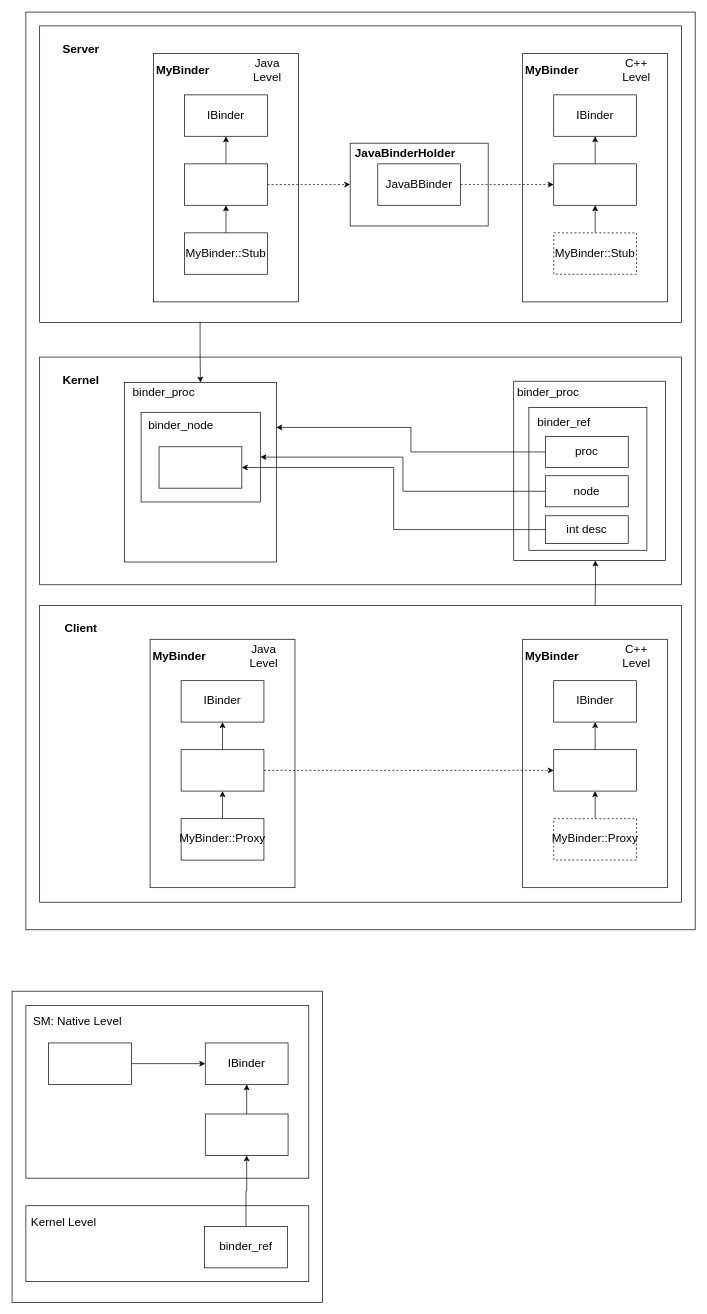
Image size: 707x1314. Some labels were removed from this diagram. Here are the shapes that lost their labels. From the top down, the centre of each, then its label:
At point 225,184: "Binder".
At point 595,184: "BBinder".
At point 200,467: "void* cookie".
At point 222,770: "BinderProxy".
At point 595,770: "BPinder".
At point 89,1063: "name".
At point 246,1134: "BpBinder".
